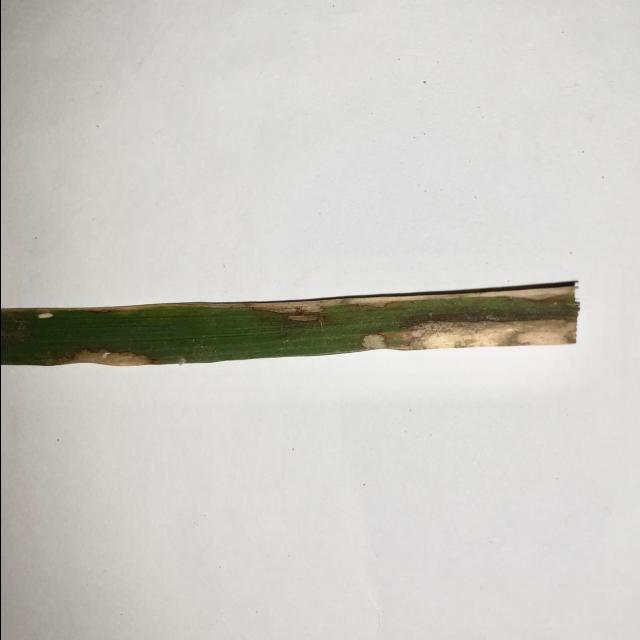Leaf Blight: (0, 285, 578, 349), (41, 348, 152, 367), (284, 314, 321, 322)
